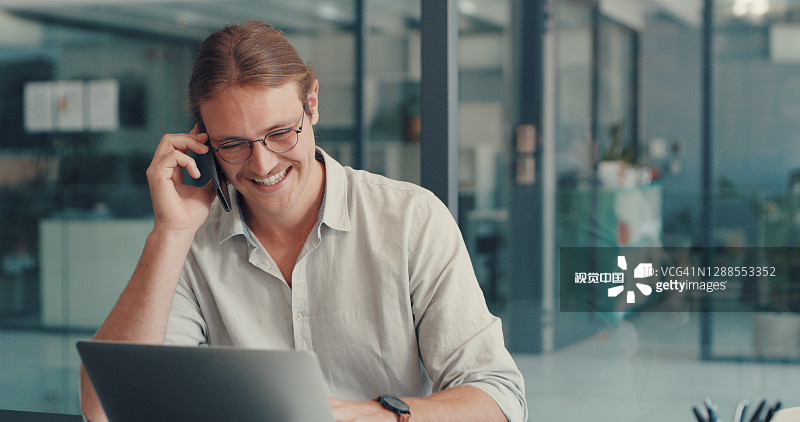calling: (131, 113, 241, 242)
